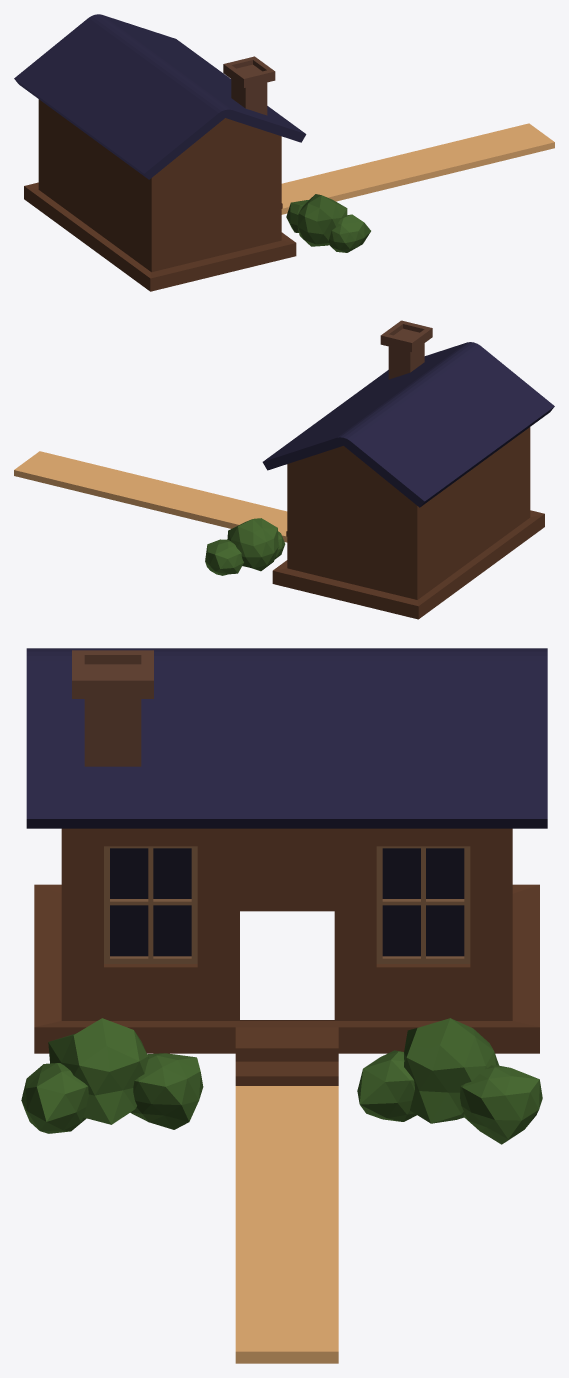
File: IgniteHuisZonderDeur.fbx
3 renders of one model, top to bottom at view 1: azimuth 30°, elevation 25°; view 2: azimuth 150°, elevation 25°; view 3: azimuth 270°, elevation 25°, orthographic. The views are drawn at different scales.
Parts seen in each view (by area): view 1: Cube.002, Roof.002, Cube.003, Icosphere.004, Chimney.001; view 2: Cube.002, Roof.002, Cube.003, Icosphere.003, Chimney.001; view 3: Roof.002, Cube.002, Cube.003, window.003, Icosphere.004, Icosphere.003, Chimney.001, window.002.
Part boxes in pixels (x1,y1,x2,y2): Cube.002: (24,99,296,291); Roof.002: (14,14,306,179); Cube.003: (281,123,554,214); Icosphere.004: (286,194,370,252); Chimney.001: (223,56,275,115); Cube.002: (272,427,544,619); Roof.002: (262,342,554,507); Cube.003: (14,451,287,542); Icosphere.003: (205,518,285,575); Chimney.001: (380,320,432,379); Roof.002: (26,648,547,828); Cube.002: (34,828,539,1085); Cube.003: (235,1086,338,1363); window.003: (110,848,464,956); Icosphere.004: (21,1018,203,1133); Icosphere.003: (357,1018,542,1144); Chimney.001: (72,650,153,766); window.002: (104,846,470,963).
Size of the model in its own units: 1601 by 642 by 788.
